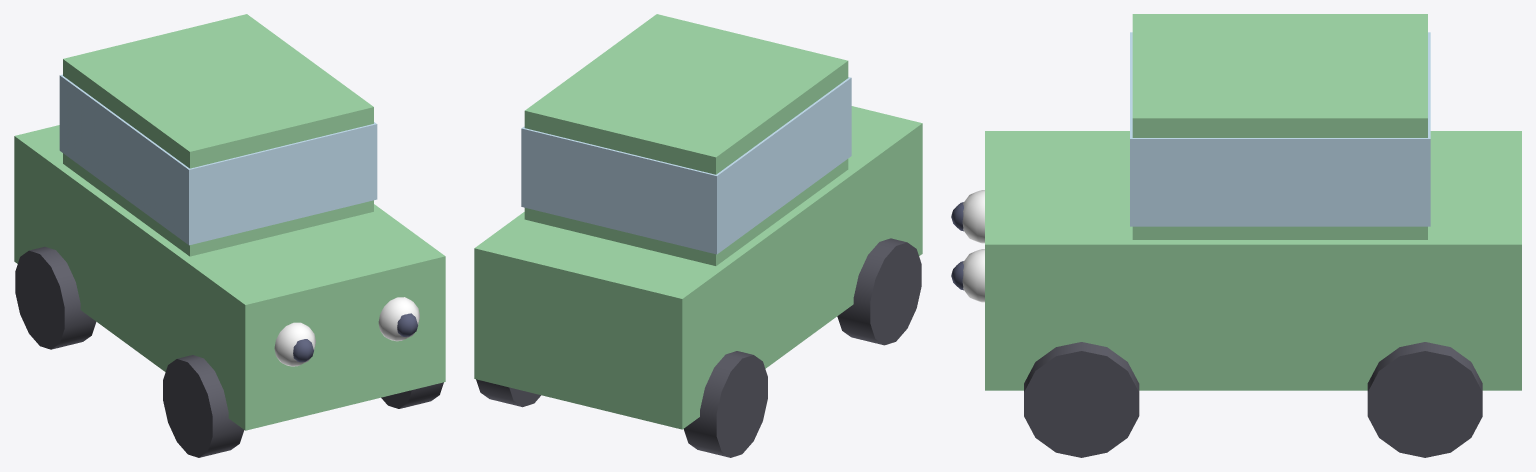
The model's file is mobil3.glb.
3 renders of one model, left to right at view 1: azimuth 30°, elevation 25°; view 2: azimuth 150°, elevation 25°; view 3: azimuth 270°, elevation 25°, orthographic. The views are drawn at different scales.
Parts seen in each view (by area): view 1: mobil3; view 2: mobil3; view 3: mobil3.
Part boxes in pixels (x1=…): mobil3: x1=14, y1=14, x2=445, y2=457; mobil3: x1=474, y1=14, x2=922, y2=457; mobil3: x1=951, y1=14, x2=1521, y2=457.
Bounding box in the file's own units: 0.58 × 0.67 × 1.06.
